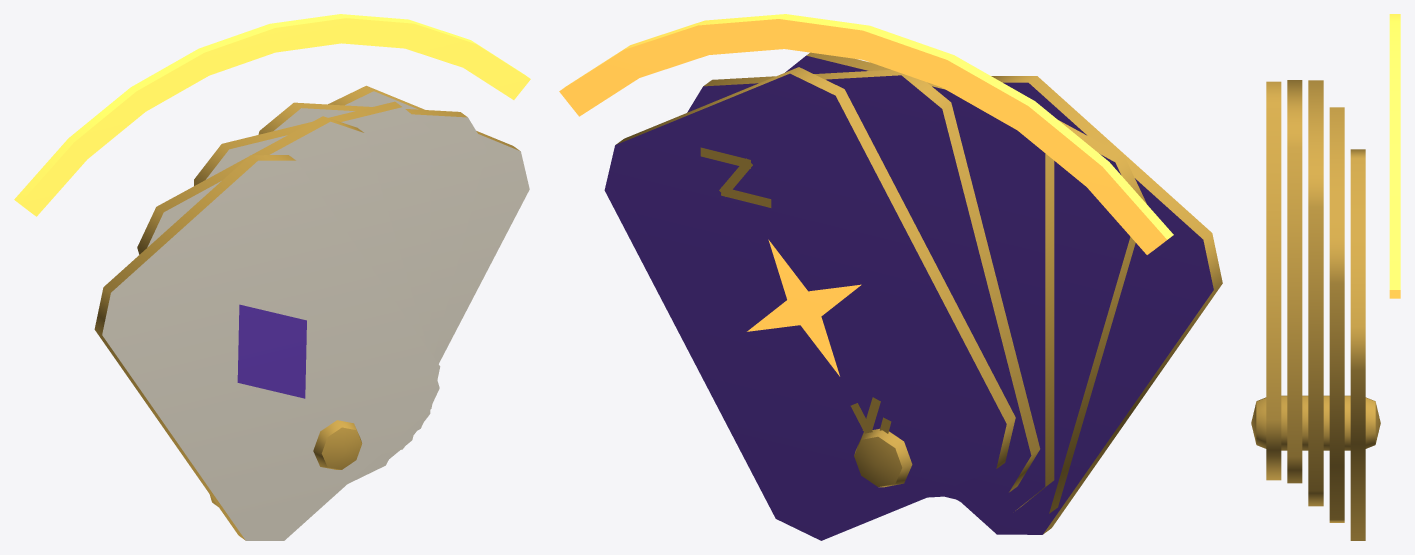
The model's file is trick-deck-4.glb.
3 views of the same model, side by side, from view 1: azimuth 30°, elevation 25°; view 2: azimuth 150°, elevation 25°; view 3: azimuth 270°, elevation 25° (orthographic). The views are drawn at different scales.
Visible parts, largest first — view 1: trick-deck-4; view 2: trick-deck-4; view 3: trick-deck-4.
Part boxes in pixels (bbox=[...]): trick-deck-4: bbox=[14, 14, 530, 540]; trick-deck-4: bbox=[559, 14, 1222, 540]; trick-deck-4: bbox=[1251, 14, 1400, 540].
Size of the model in its own units: 0.1562 by 0.1328 by 0.0397.
